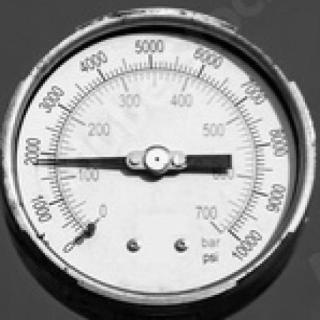gauge: (0, 0, 320, 320), (56, 203, 118, 259), (199, 214, 250, 253), (143, 143, 173, 177), (28, 154, 56, 168)
